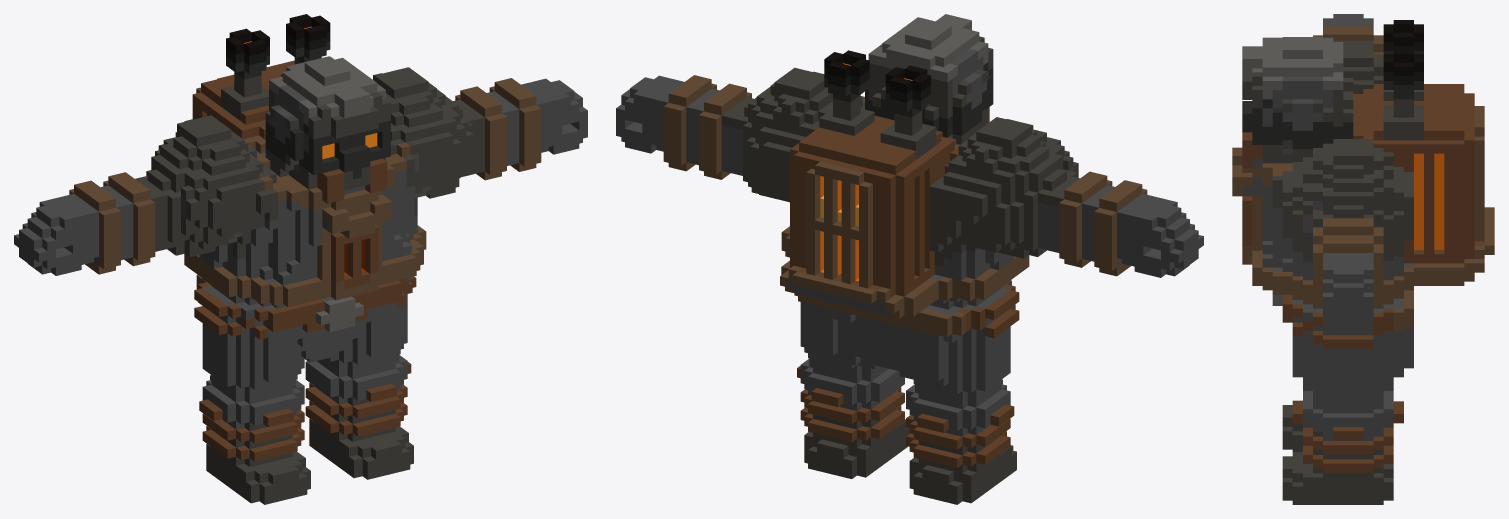
The model's file is Golem_1.obj.
3 renders of one model, left to right at view 1: azimuth 30°, elevation 25°; view 2: azimuth 150°, elevation 25°; view 3: azimuth 270°, elevation 25°, orthographic. The views are drawn at different scales.
Size of the model in its own units: 6.4 by 4.6 by 2.6.
1 material, 1 textured.
